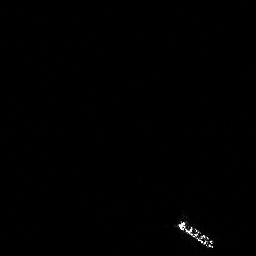ship: (173, 218, 216, 250)
